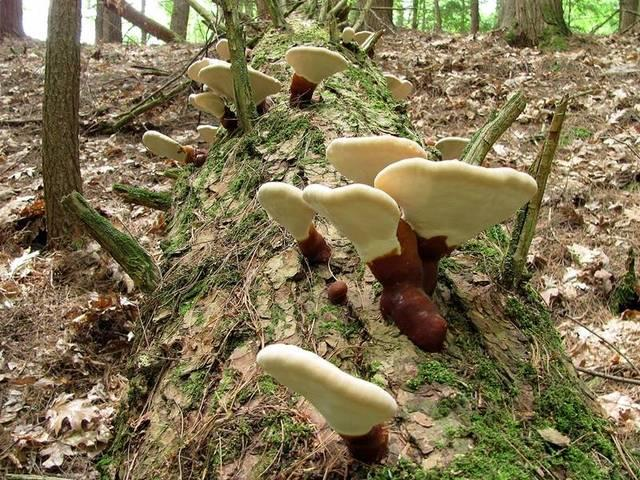Non-edible Mushroom: (256, 133, 538, 351), (146, 30, 361, 155), (254, 341, 398, 461)
